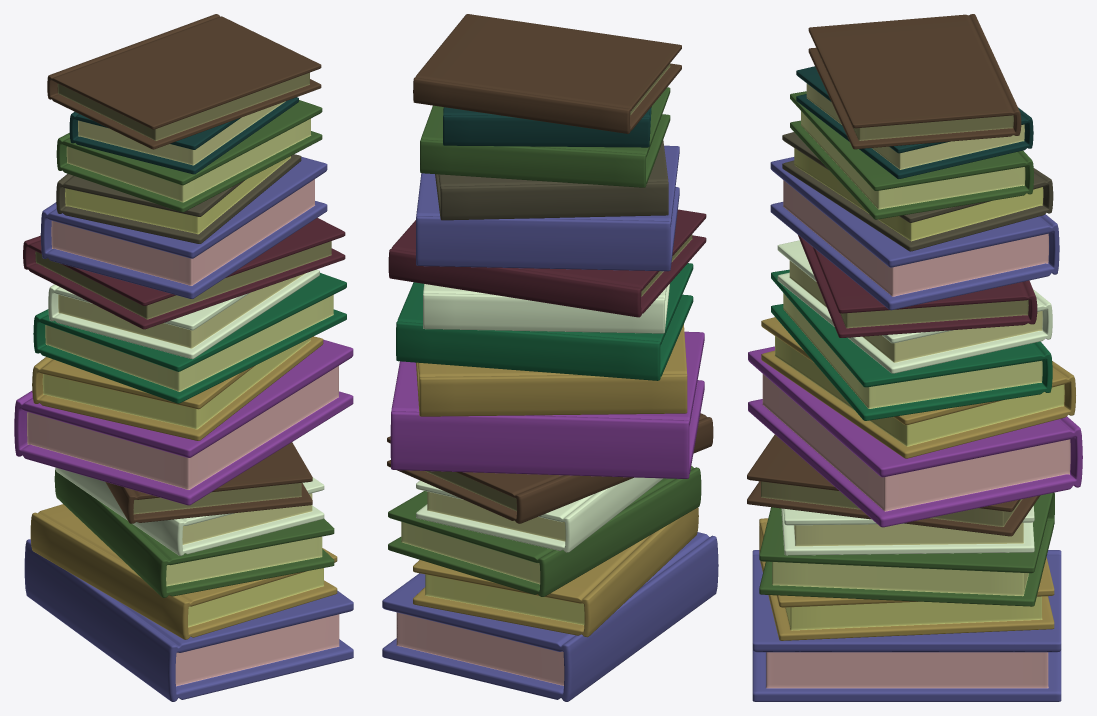
The model's file is Books.fbx.
3 renders of one model, left to right at view 1: azimuth 30°, elevation 25°; view 2: azimuth 150°, elevation 25°; view 3: azimuth 270°, elevation 25°, orthographic. The views are drawn at different scales.
Parts seen in each view (by area): view 1: book04.005; view 2: book04.005; view 3: book04.005.
Part boxes in pixels (left/top/right/bottom): book04.005: left=14, top=14, right=353, bottom=701; book04.005: left=382, top=14, right=718, bottom=701; book04.005: left=747, top=14, right=1082, bottom=701.
Bounding box in the file's own units: 54.26 × 93.67 × 48.7.
